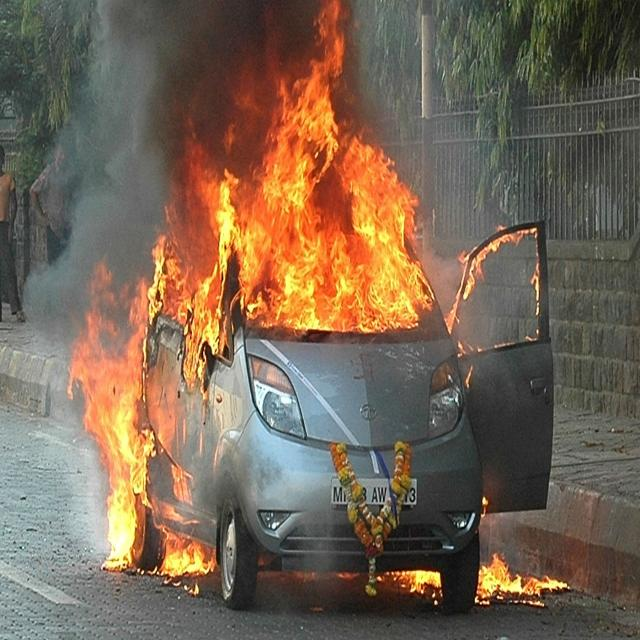fire: (161, 140, 427, 336), (78, 262, 156, 569), (451, 224, 541, 348), (263, 4, 346, 133), (475, 546, 560, 614), (160, 521, 217, 588), (390, 564, 443, 602)
